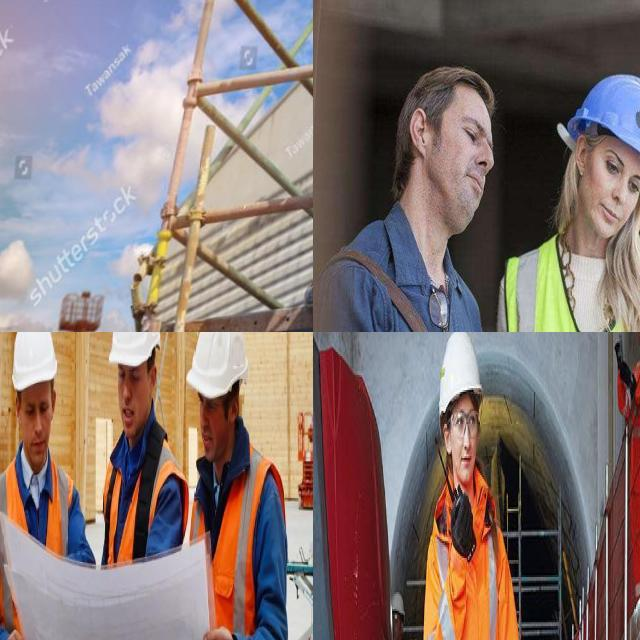No_Ear-Protection: (408, 102, 432, 164), (572, 131, 592, 182)
No_Glasses: (598, 144, 640, 200), (456, 110, 485, 154)
face_nomask: (437, 102, 498, 244), (582, 136, 640, 240), (15, 382, 59, 471), (447, 390, 482, 484), (117, 357, 154, 437), (197, 382, 232, 466)
glasses: (446, 401, 480, 447)
hand_glove: (444, 487, 476, 568)
hand_noglove: (196, 621, 240, 640), (0, 617, 33, 640)
head_helmet: (569, 72, 640, 186), (184, 332, 250, 403), (438, 332, 482, 414), (11, 332, 57, 392), (108, 332, 161, 370), (392, 594, 404, 618)
head_nohelmet: (380, 41, 494, 109)
person: (334, 75, 512, 332), (495, 65, 640, 332), (192, 332, 286, 640), (427, 341, 523, 640), (0, 332, 97, 582), (96, 332, 184, 568), (617, 332, 640, 593), (390, 595, 418, 640)
vest: (189, 435, 288, 640), (426, 482, 526, 640), (102, 420, 191, 572), (506, 238, 640, 332), (0, 458, 72, 623)
